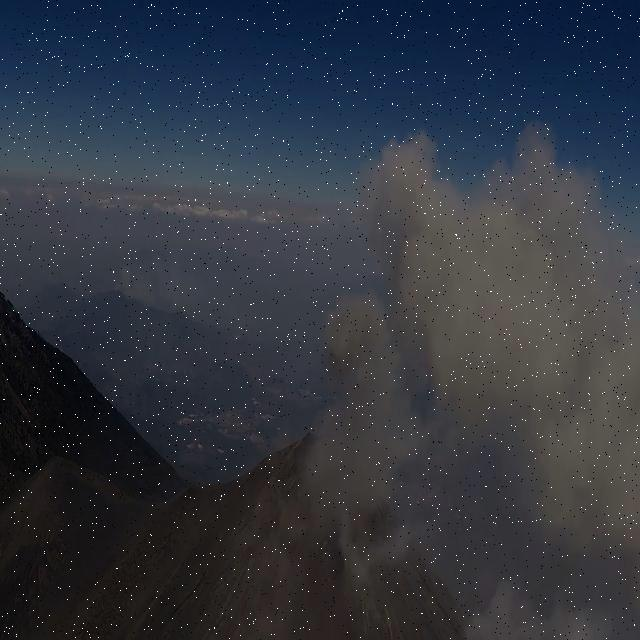Plume: (376, 111, 640, 554), (310, 268, 422, 558)
Summit: (255, 419, 470, 640)
